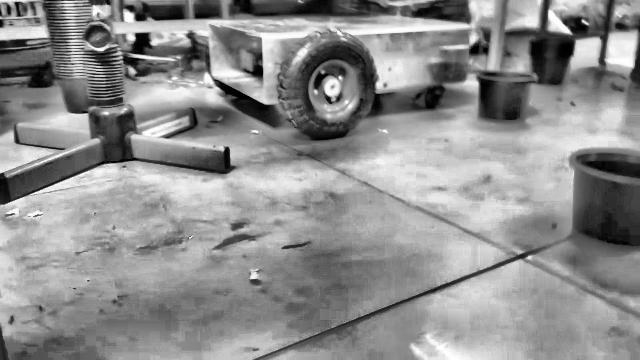pot: (570, 150, 639, 247), (477, 71, 536, 121)
